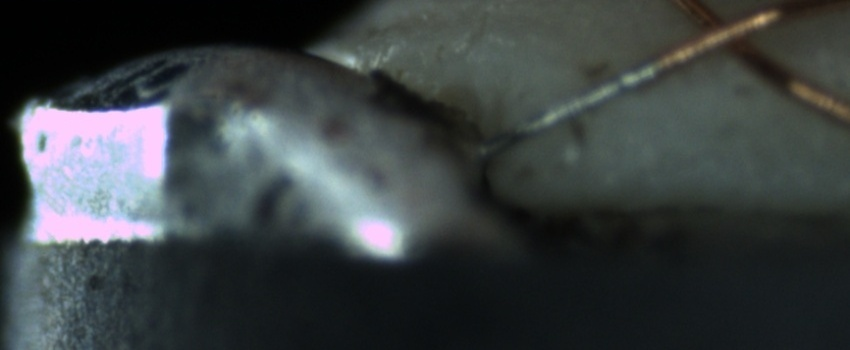CL: (676, 2, 775, 67)
TS: (469, 56, 658, 163)
